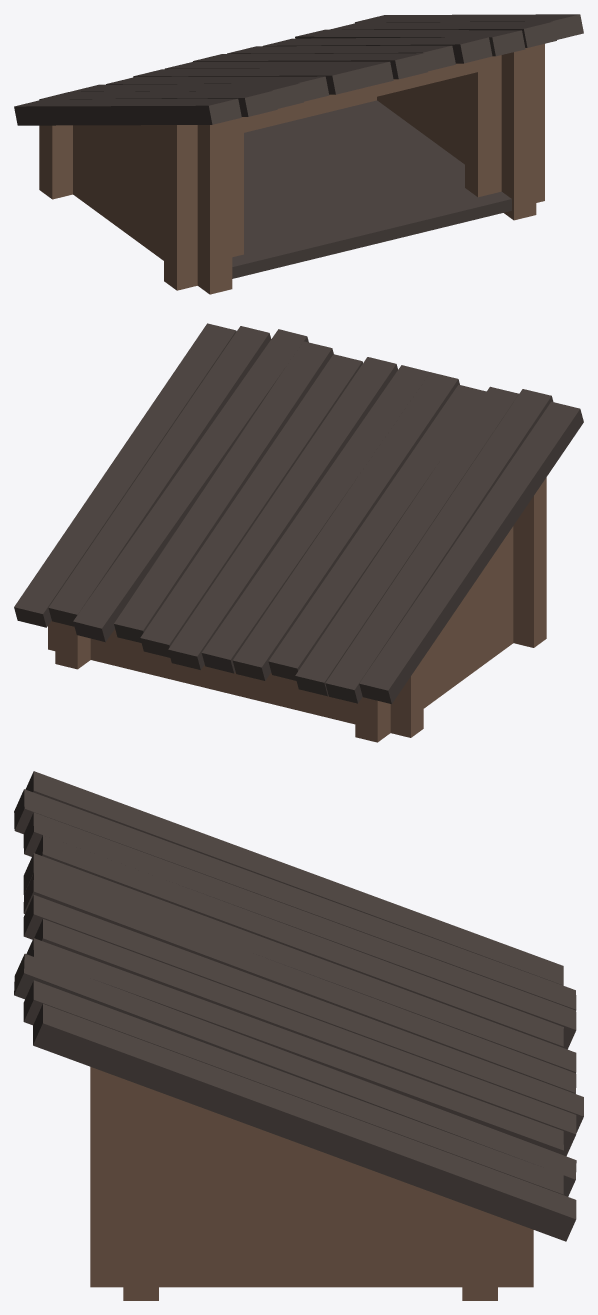
Rendered from Laavu_(1).fbx.
3 renders of one model, top to bottom at view 1: azimuth 30°, elevation 25°; view 2: azimuth 150°, elevation 25°; view 3: azimuth 270°, elevation 25°, orthographic. The views are drawn at different scales.
Parts seen in each view (by area): view 1: Walls, Floor, Roof; view 2: Roof, Walls; view 3: Roof, Walls.
Part boxes in pixels (x1,y1,x2,y2): Walls: (39,44,544,294); Floor: (232,100,511,278); Roof: (14,14,583,125); Roof: (14,323,583,703); Walls: (48,477,546,742); Roof: (14,771,583,1241); Walls: (90,1067,533,1300).
Bounding box in the file's own units: 332 × 180 × 322.
